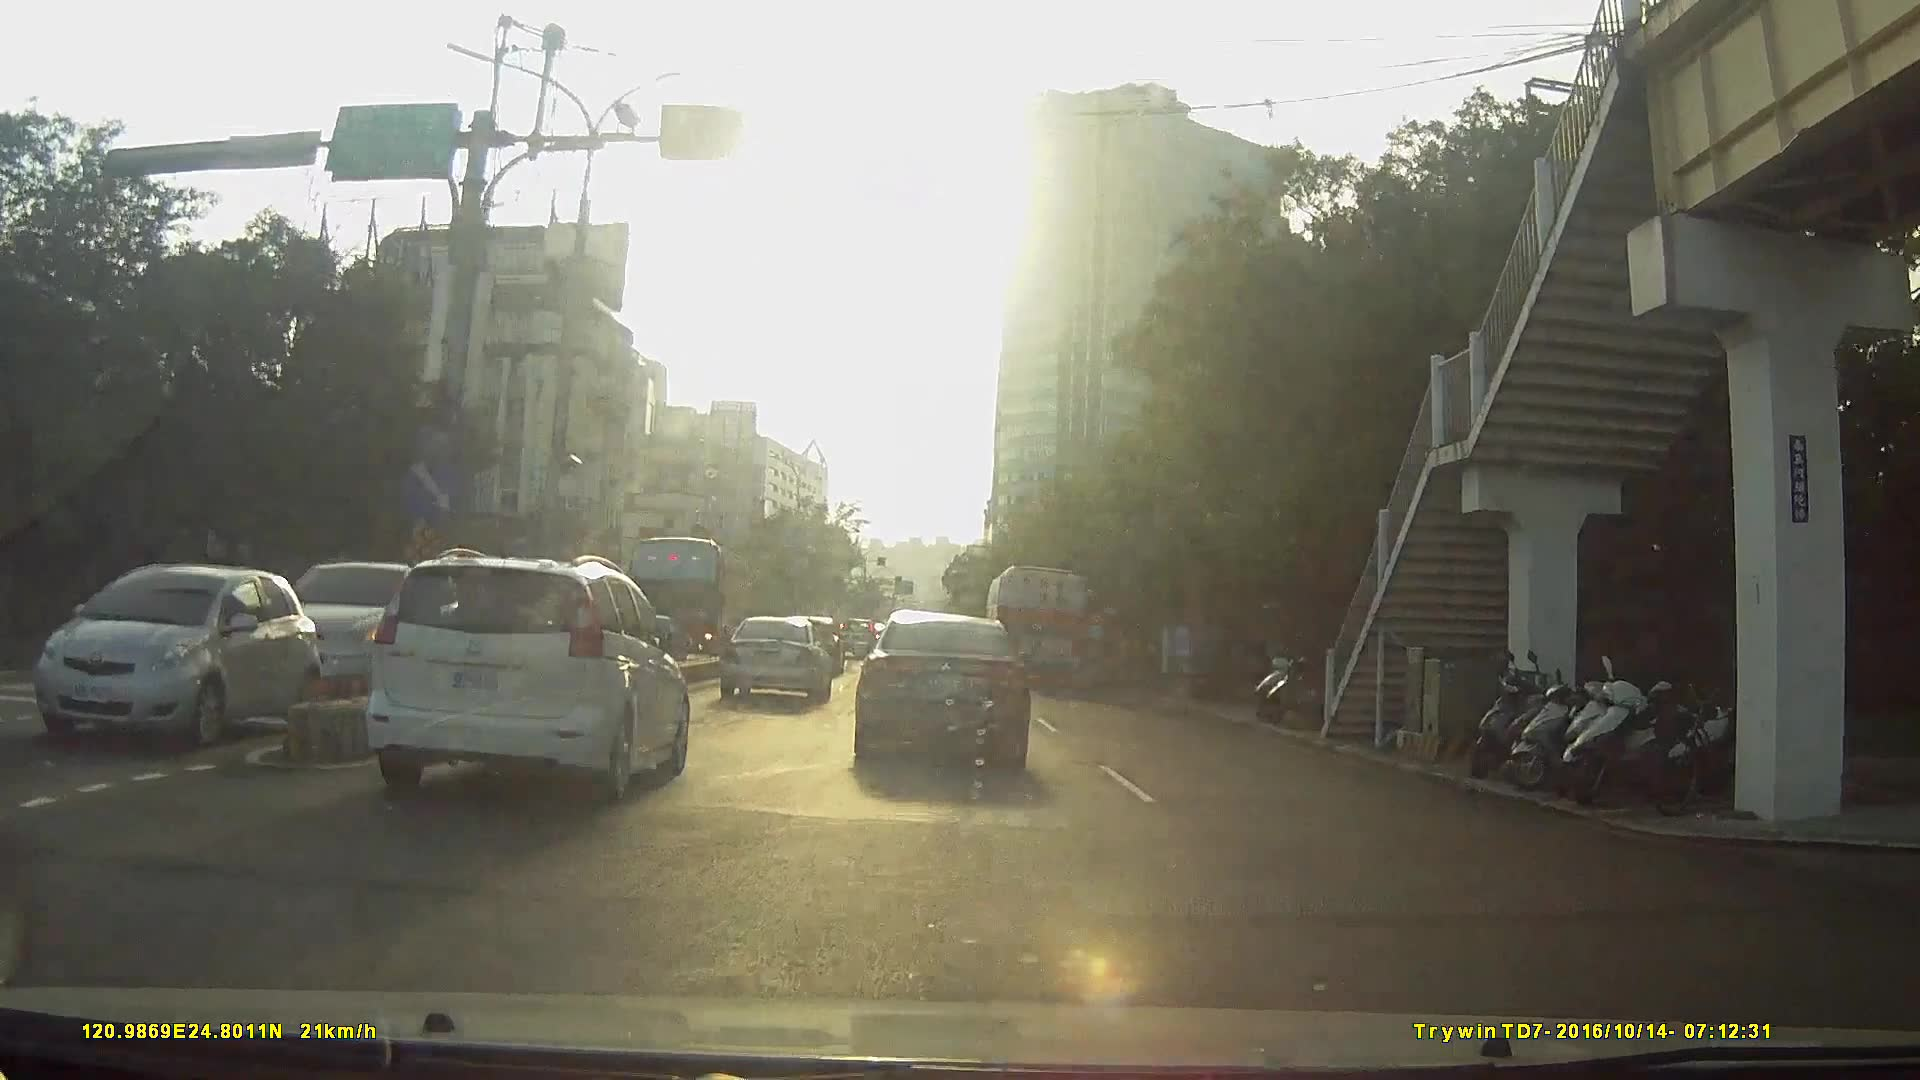vehicle: (251, 556, 684, 868), (367, 549, 694, 803), (21, 555, 326, 760), (247, 554, 480, 715), (853, 605, 1033, 775), (618, 534, 752, 659), (984, 563, 1091, 694), (721, 615, 833, 707), (833, 616, 880, 658)
